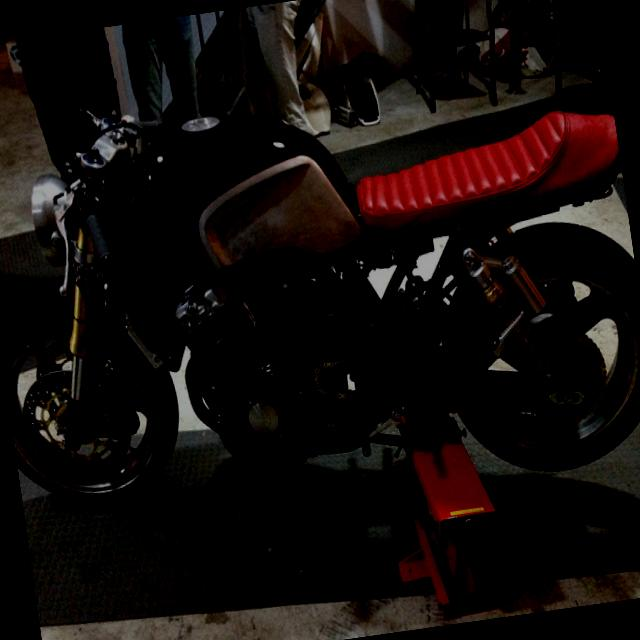Vehicle: (0, 10, 640, 548)
